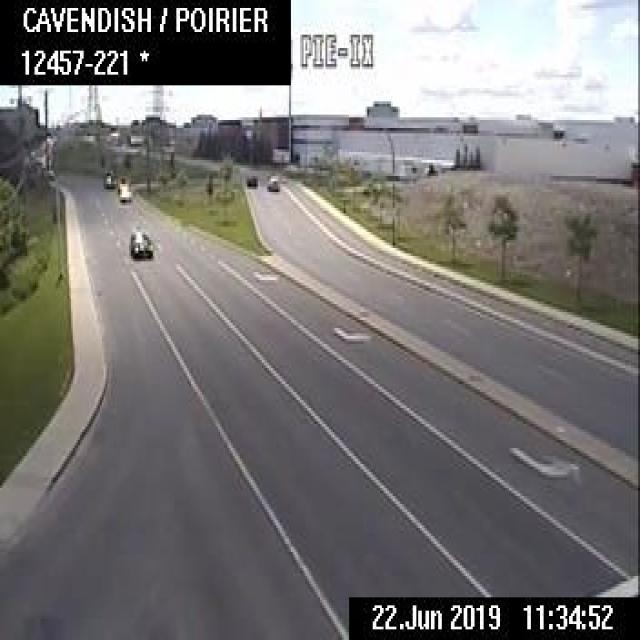vehicle: (127, 229, 153, 259), (116, 176, 130, 201), (244, 168, 256, 186), (266, 173, 279, 189), (103, 168, 115, 185)
